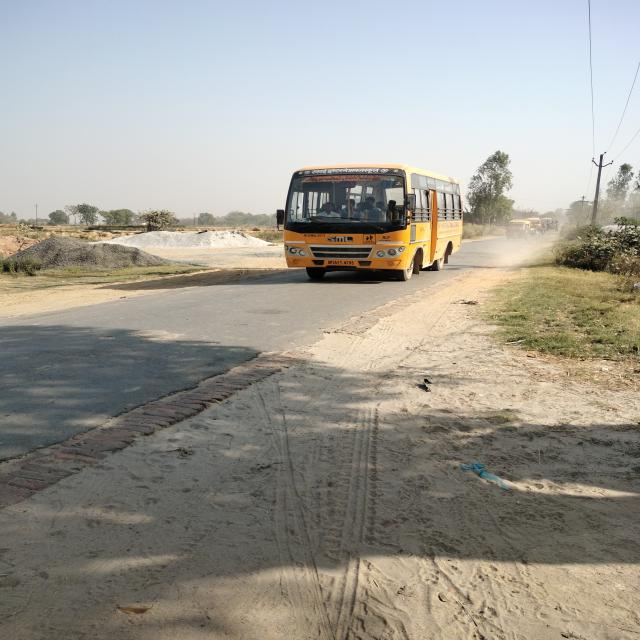Autorickshaw: (506, 220, 531, 243)
Bike: (529, 226, 538, 238), (541, 223, 546, 237)
Bus: (274, 148, 468, 283), (543, 216, 553, 224)
Traveller: (526, 217, 542, 228)
Truck: (544, 220, 564, 232)
